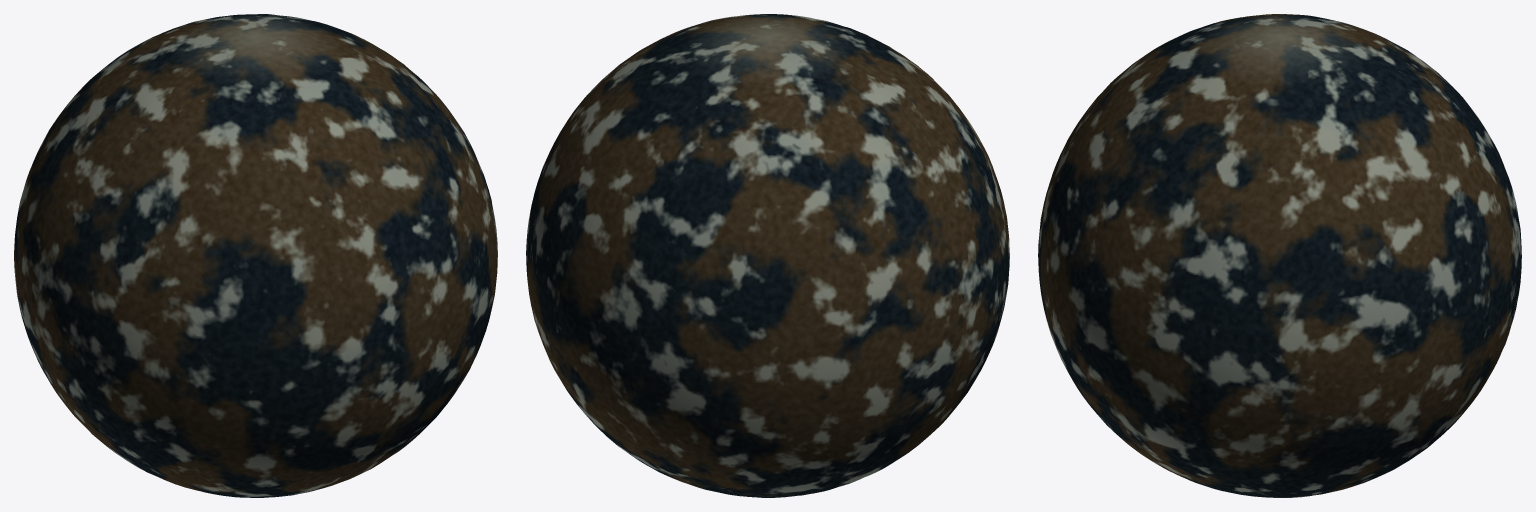
File: imaginary-planet.glb
3 views of the same model, side by side, from view 1: azimuth 30°, elevation 25°; view 2: azimuth 150°, elevation 25°; view 3: azimuth 270°, elevation 25° (orthographic).
Parts seen in each view (by area): view 1: Imaginary_exoplanet; view 2: Imaginary_exoplanet; view 3: Imaginary_exoplanet.
Boxes of the visible parts, x1,y1,x2,y2 form: Imaginary_exoplanet: (14, 14, 497, 497); Imaginary_exoplanet: (526, 14, 1009, 497); Imaginary_exoplanet: (1038, 14, 1521, 497).
Size of the model in its own units: 2 by 2 by 2.
Materials: 1 (1 with a texture image).
